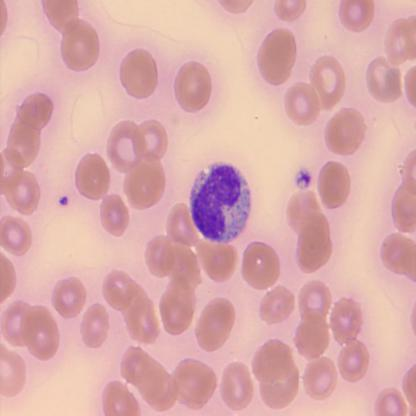Metamyelocyte: (188, 159, 254, 245)
